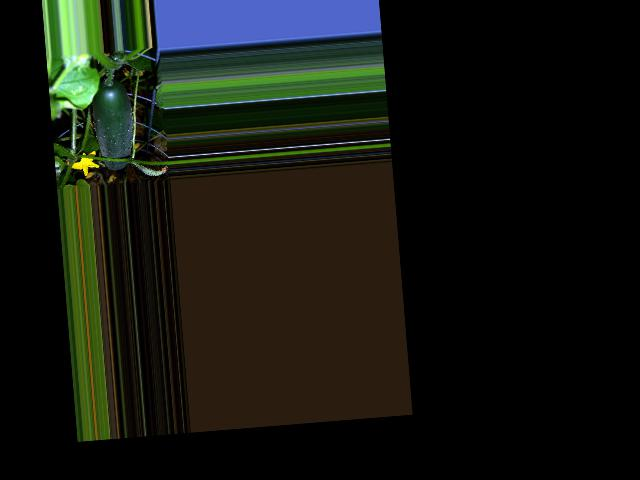cucumber: (90, 77, 137, 171)
